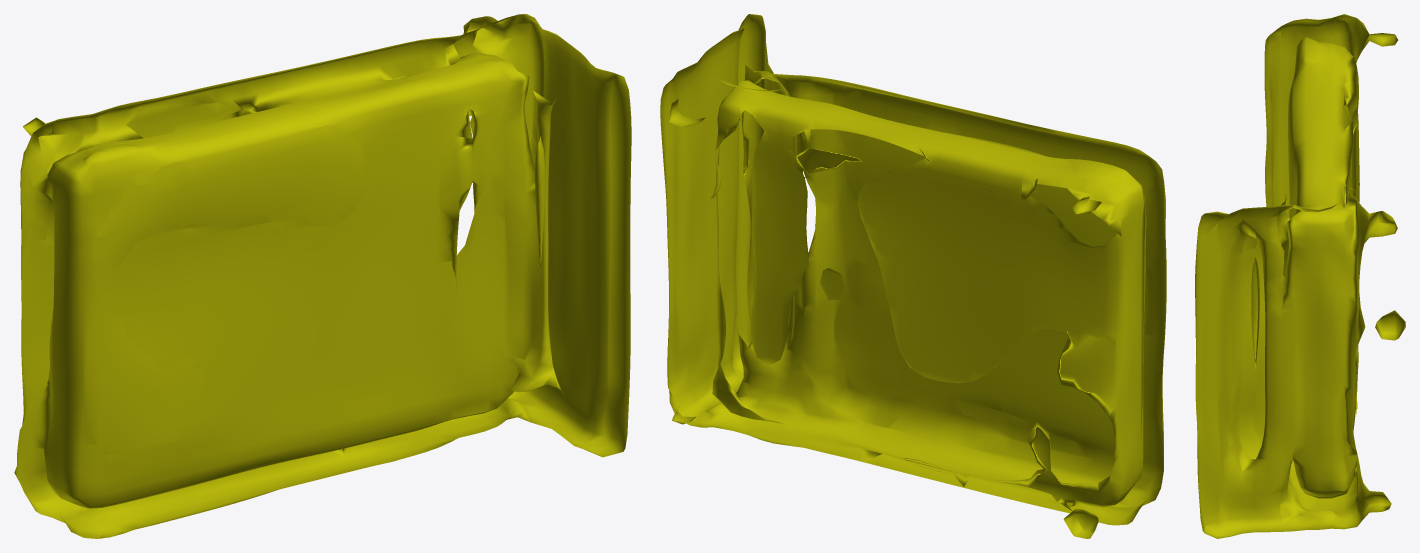
3 renders of one model, left to right at view 1: azimuth 30°, elevation 25°; view 2: azimuth 150°, elevation 25°; view 3: azimuth 270°, elevation 25°, orthographic. The views are drawn at different scales.
Visible parts, largest first — view 1: world; view 2: world; view 3: world.
Part boxes in pixels (x1,y1,x2,y2): world: [14, 14, 631, 538]; world: [660, 14, 1166, 538]; world: [1195, 14, 1405, 538].
Bounding box in the file's own units: 40.15 × 29.15 × 16.65.
